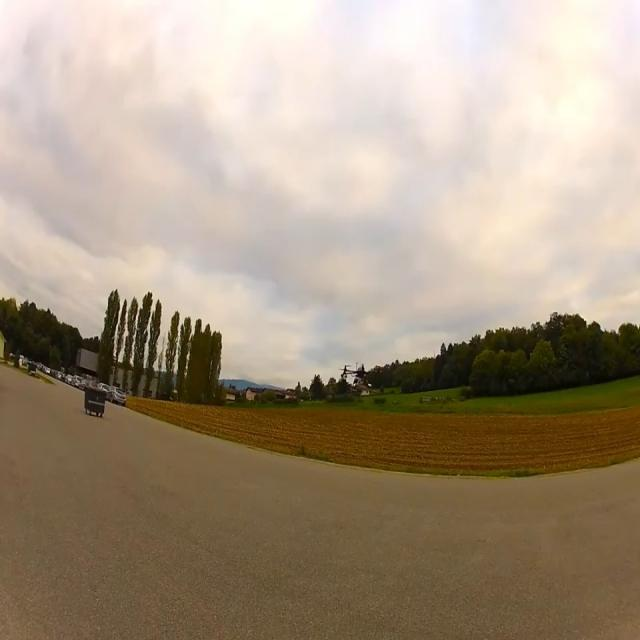drone: (339, 362, 372, 394)
